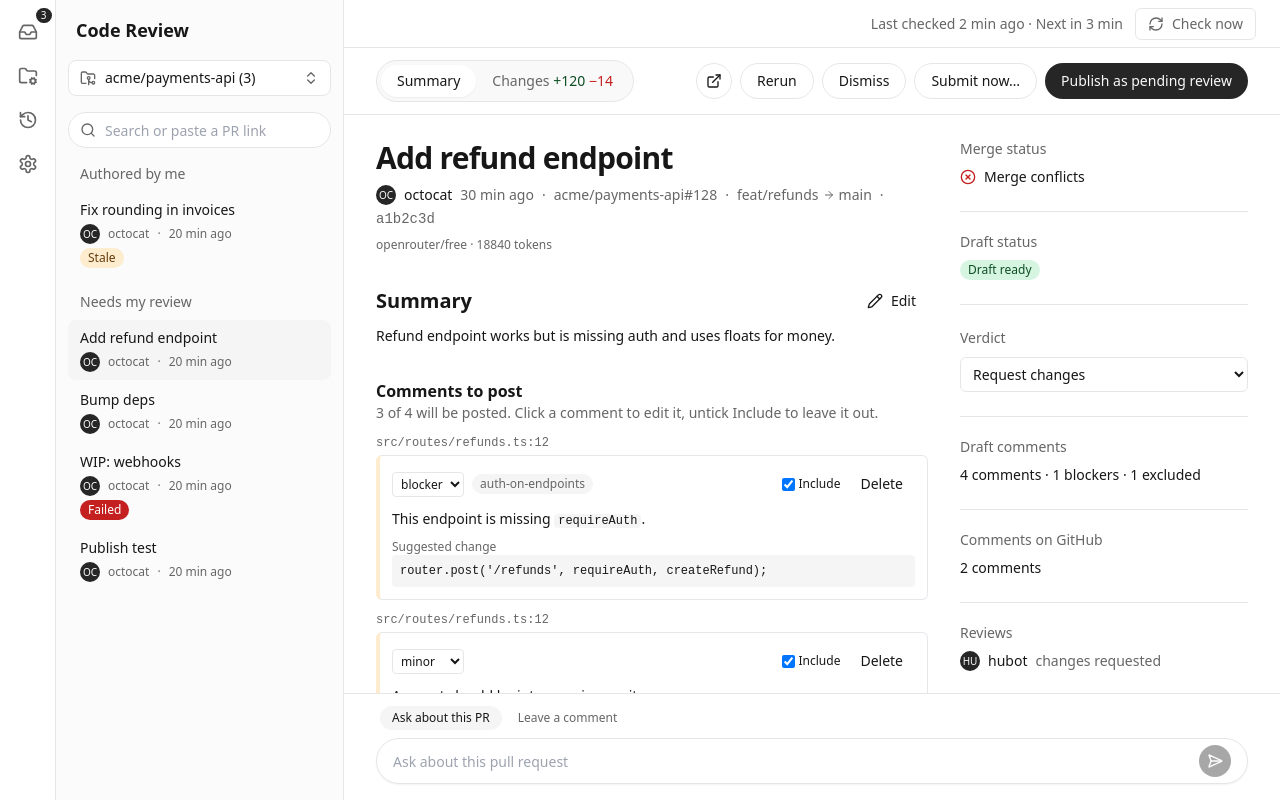
Test: Leave a comment on the PR › keeps the text and shows the reason when posting fails
Click the tab "Leave a comment": (567, 718) [506,706,629,730]
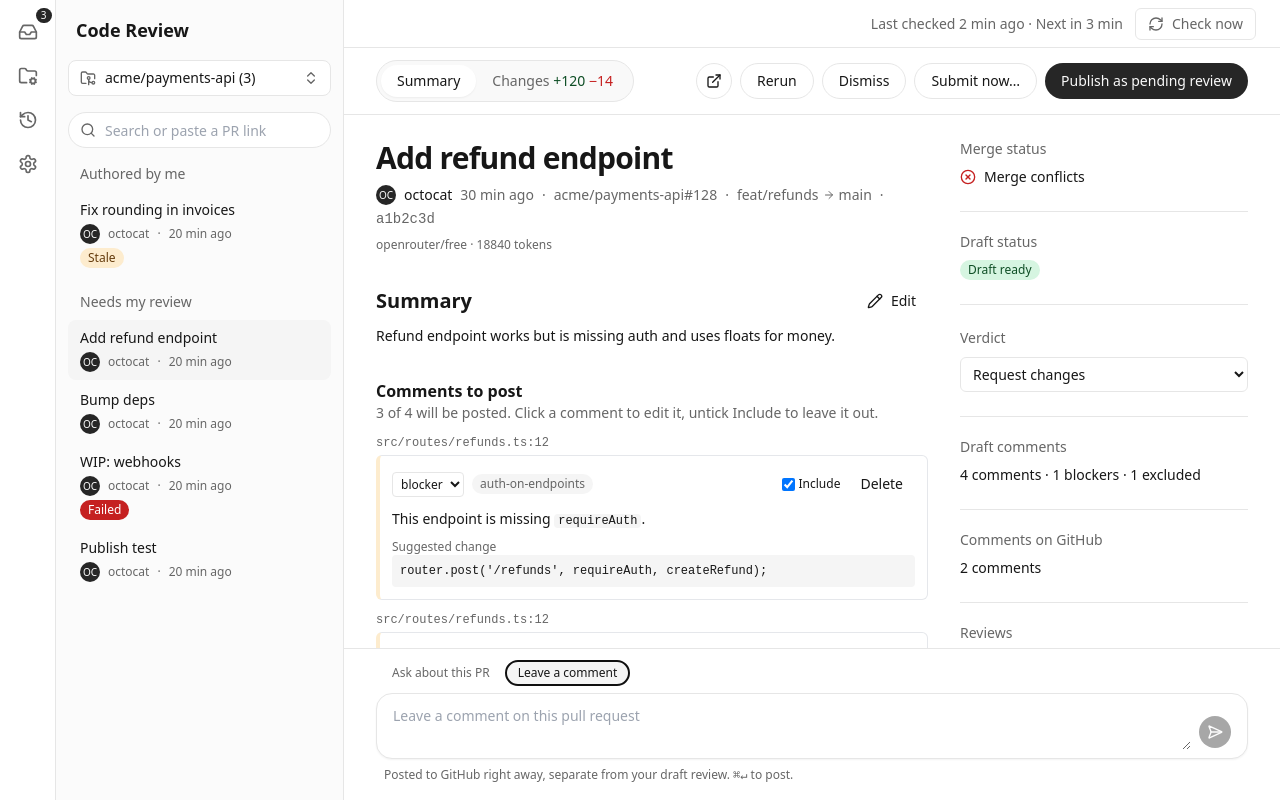
In the text box labelled "Leave a comment": (792, 726) [393,702,1191,750], type "Hello"
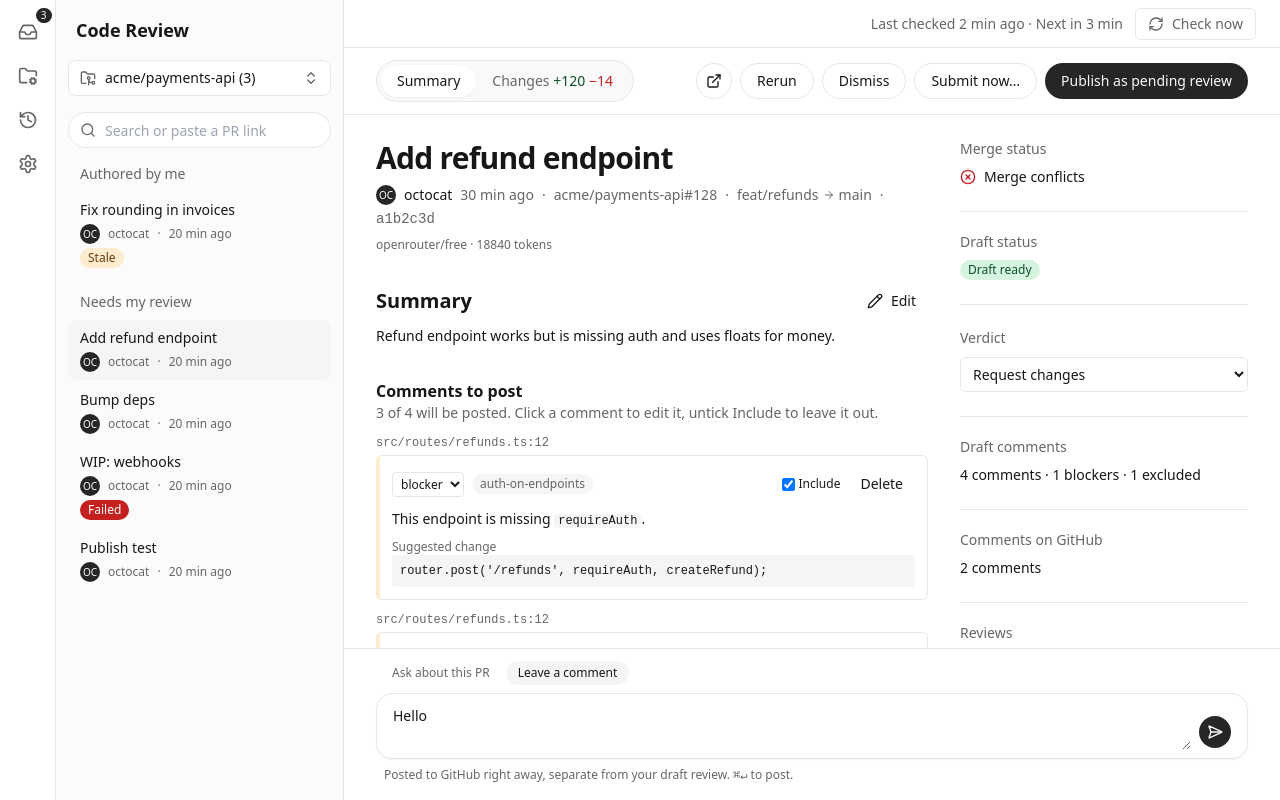
Type keys "{Meta>}{Enter}{/Meta}"
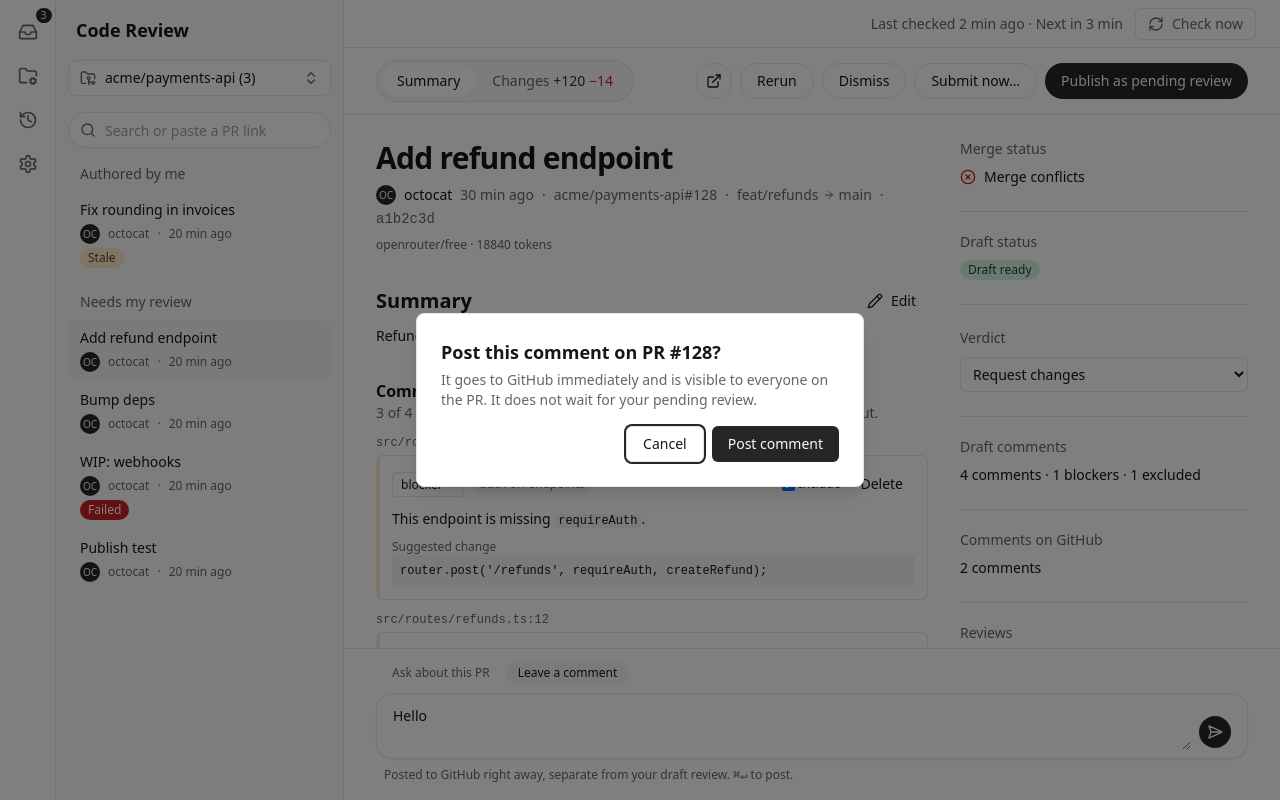
Click the button "Post comment": (775, 444) [712,426,839,462]
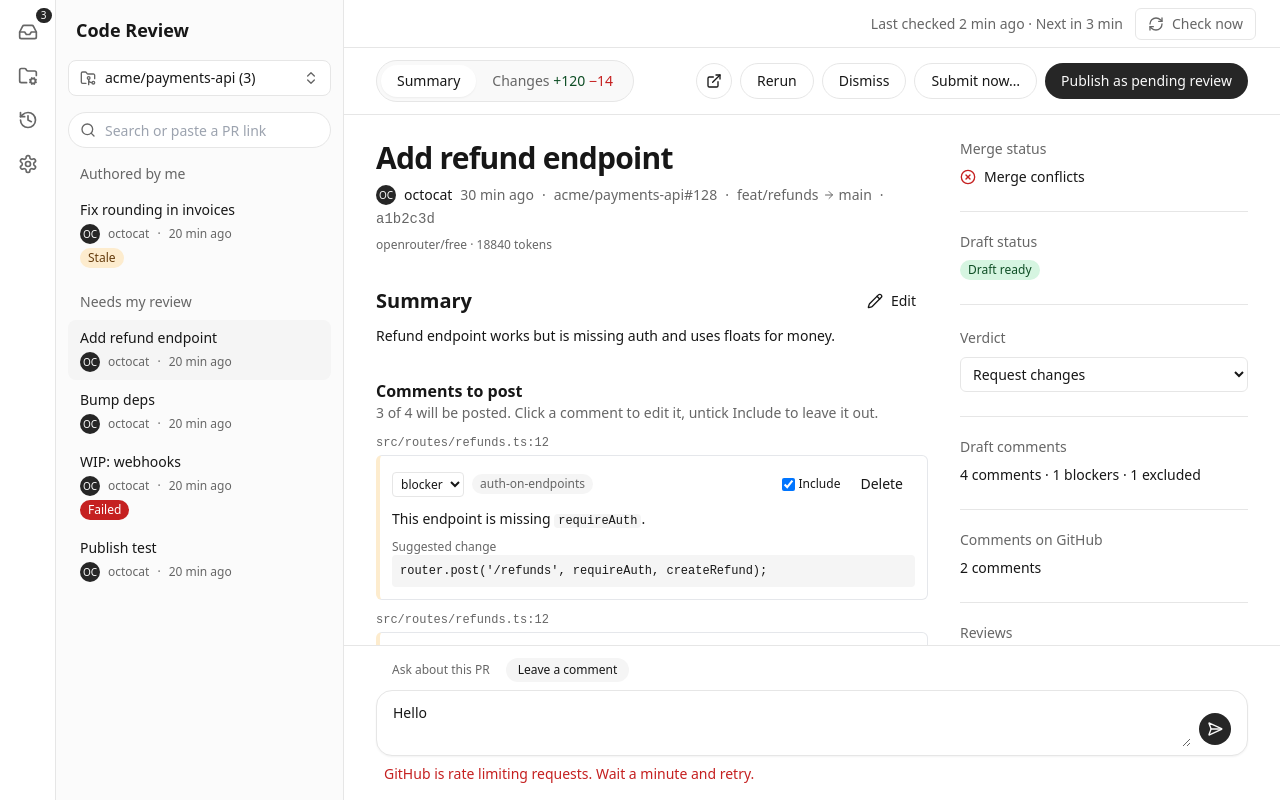
Result: the message shows "rate limiting" at [384,764,754,783]
